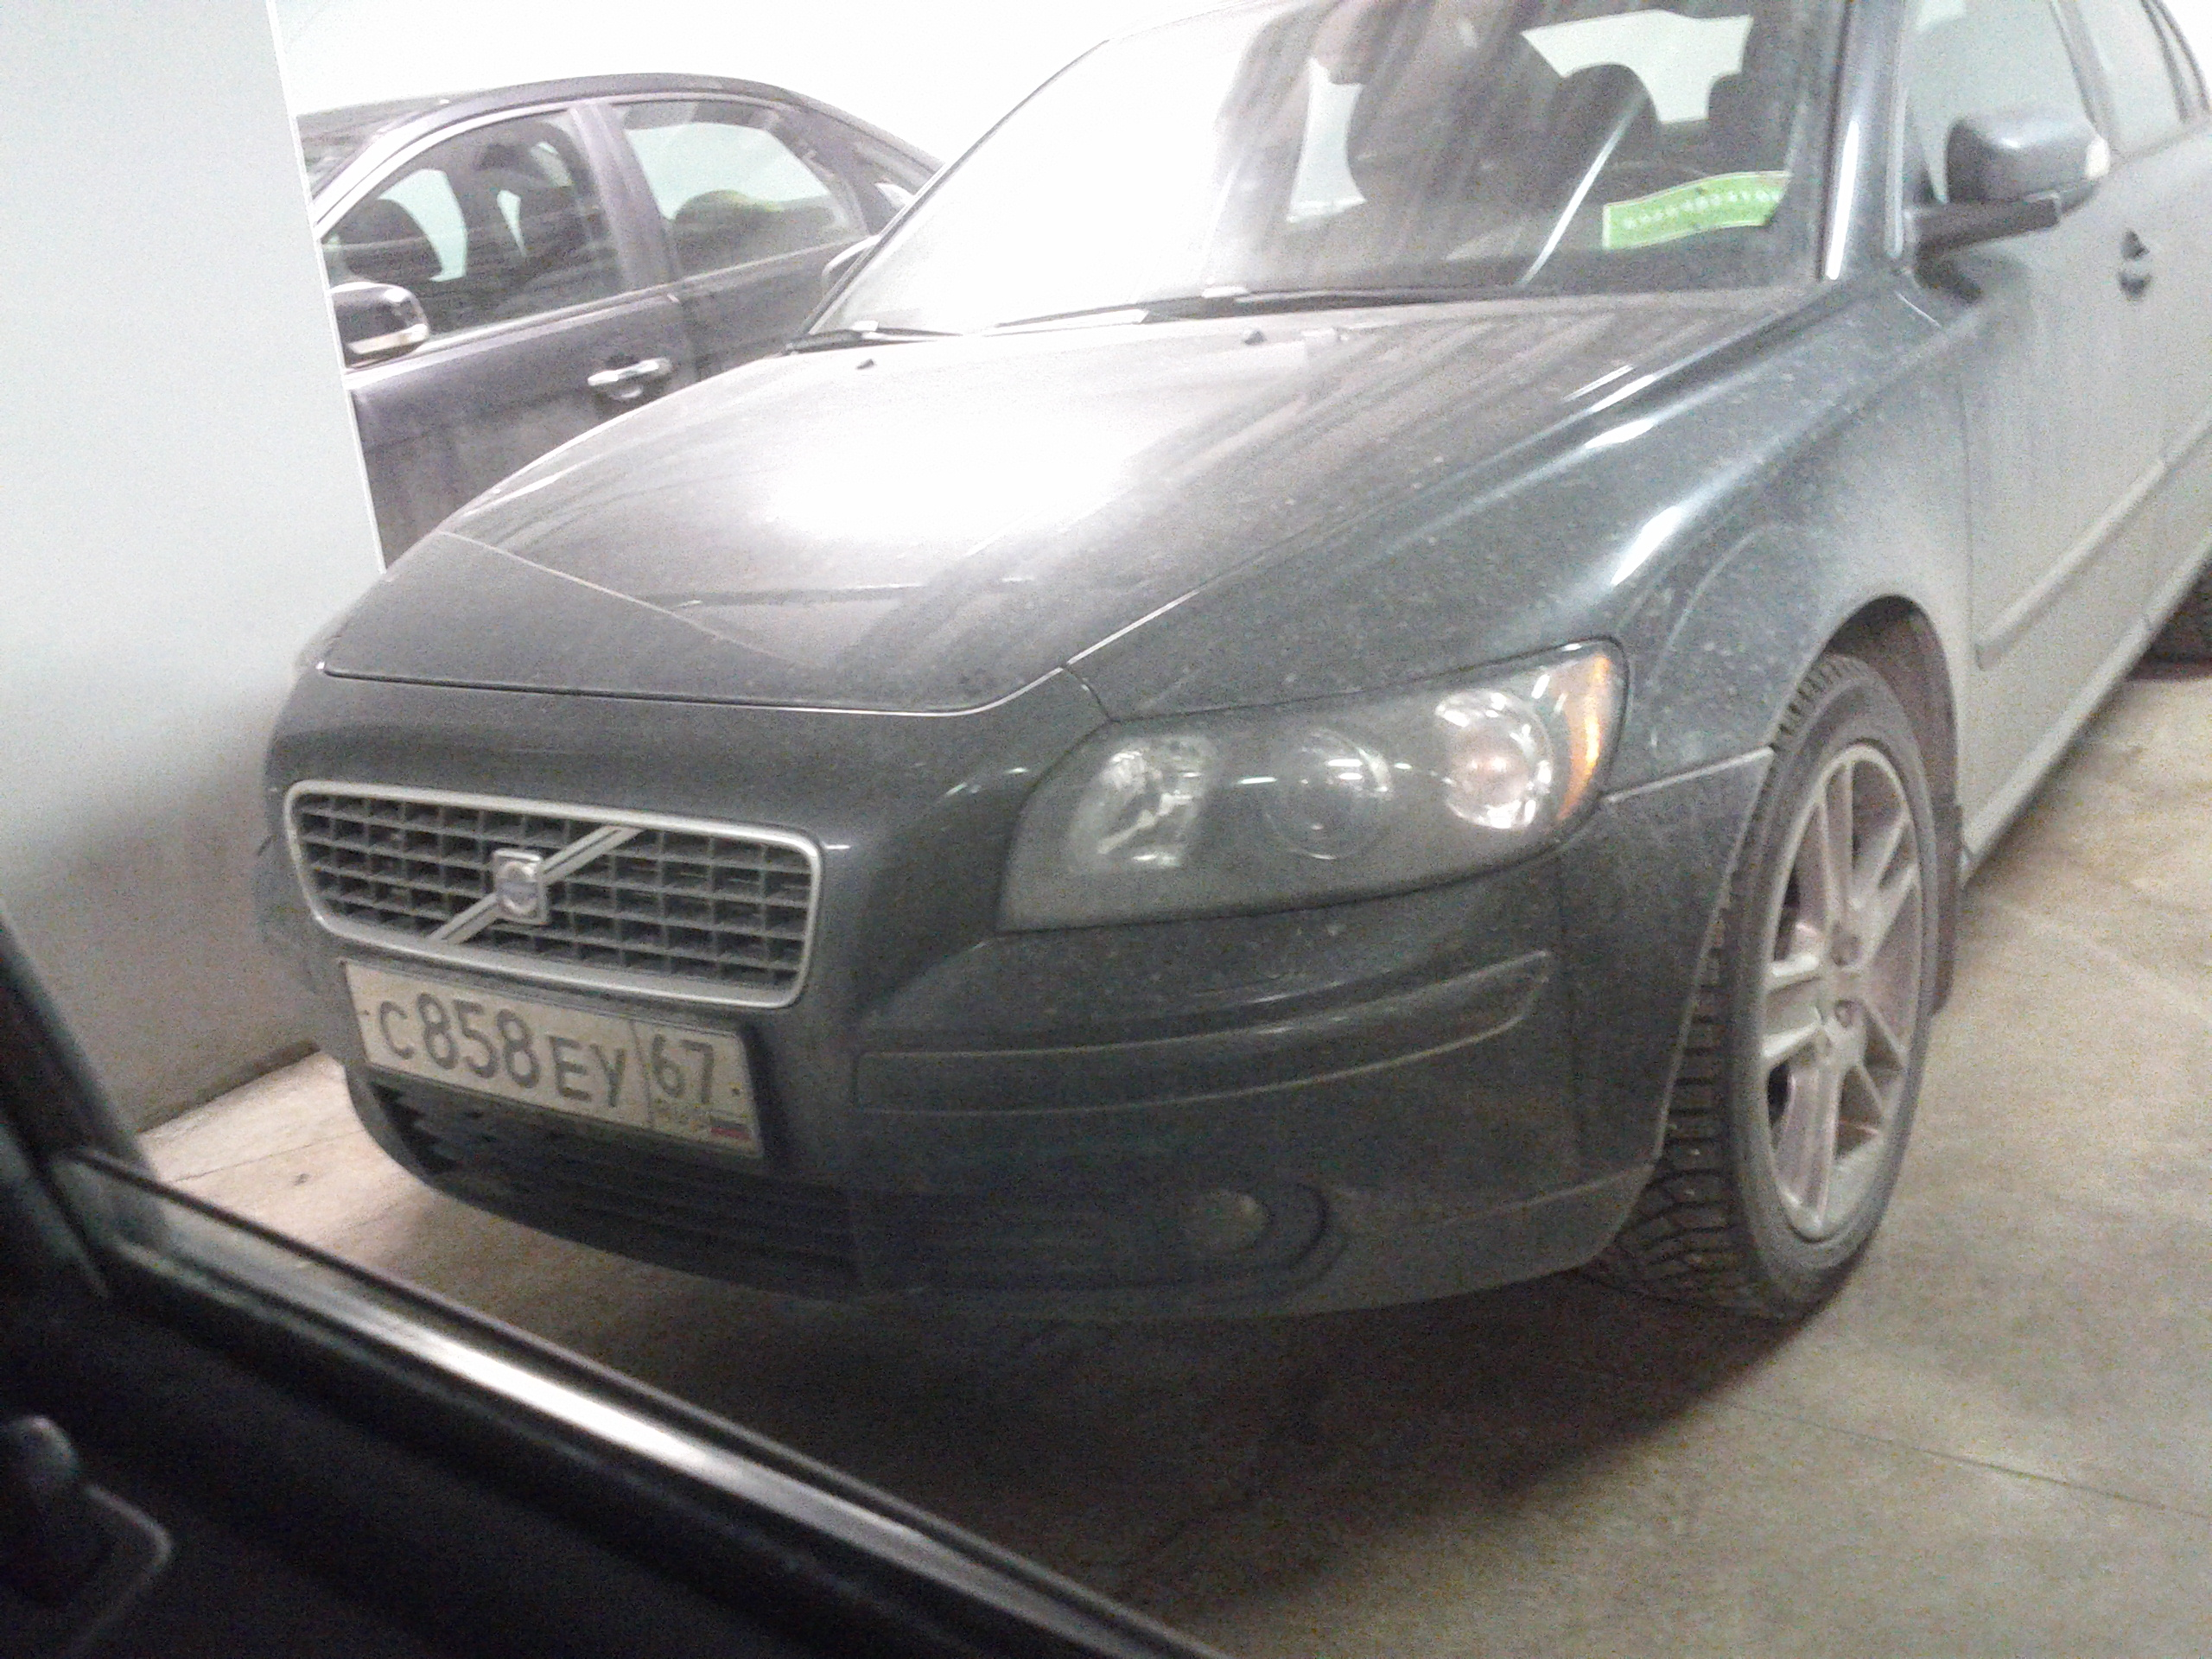car license plate: (333, 945, 767, 1180)
